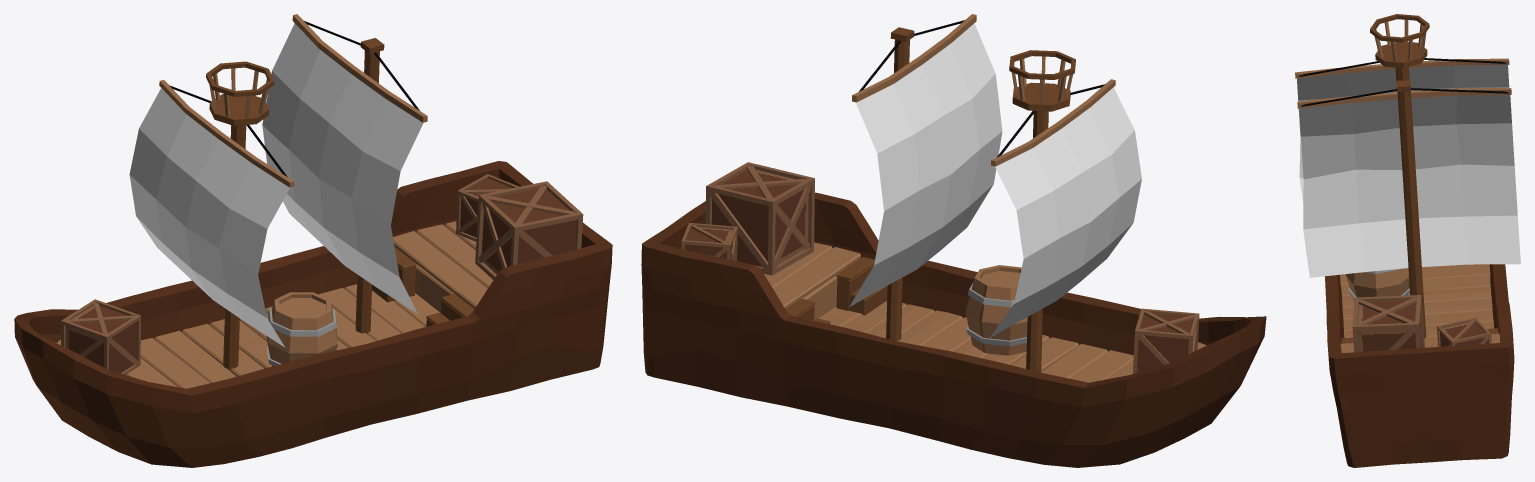
The model's file is Average boat.fbx.
The picture shows the model from 3 angles, left to right: view 1: azimuth 30°, elevation 25°; view 2: azimuth 150°, elevation 25°; view 3: azimuth 270°, elevation 25°; orthographic projection. The views are drawn at different scales.
Visible parts, largest first — view 1: Cube.131; view 2: Cube.131; view 3: Cube.131.
Boxes of the visible parts, <box> form: Cube.131: <box>14,14,612,467</box>; Cube.131: <box>641,14,1266,467</box>; Cube.131: <box>1295,14,1520,467</box>.
Size of the model in its own units: 597 by 363 by 245.
